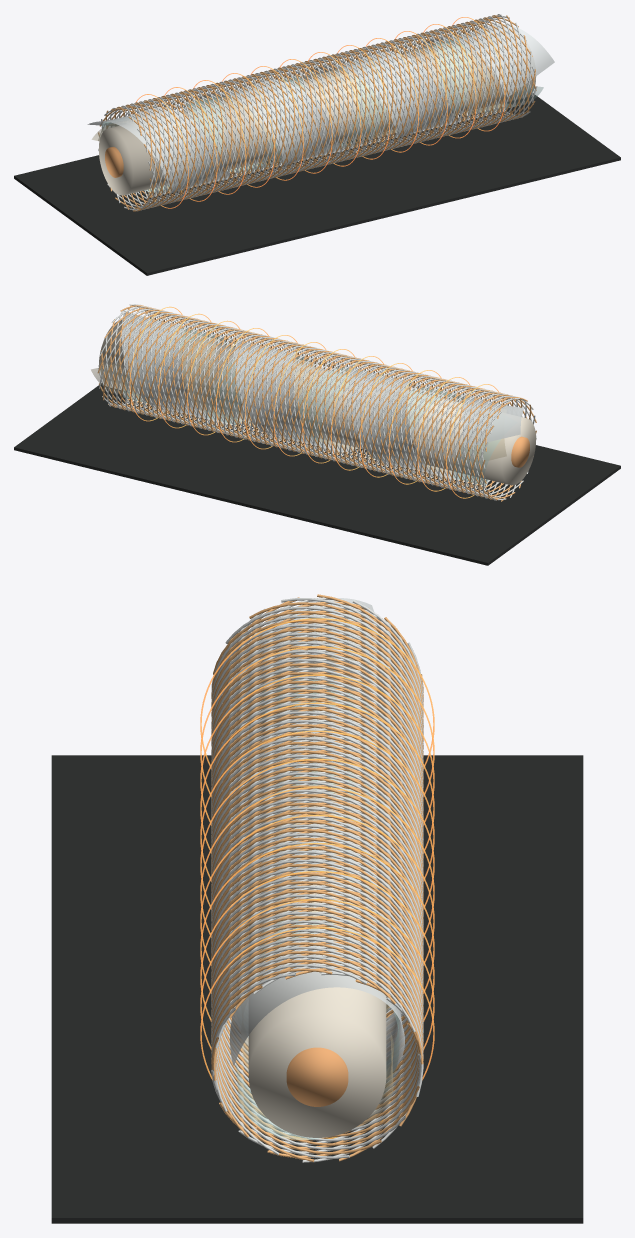
Rendered from suckout-pitch-visual-library.glb.
3 renders of one model, top to bottom at view 1: azimuth 30°, elevation 25°; view 2: azimuth 150°, elevation 25°; view 3: azimuth 270°, elevation 25°, orthographic. The views are drawn at different scales.
Visible parts, largest first — view 1: Matte analyzer floor, foil_helical_wrap, Dielectric under wrap, ptfe_b_helical_wrap, ptfe_a_helical_wrap, Braid_Z_15, Braid_Z_17, Braid_Z_00, Braid_Z_13, Braid_Z_16, Braid_Z_01, Braid_Z_14 (+30 smaller); view 2: Matte analyzer floor, foil_helical_wrap, Dielectric under wrap, ptfe_b_helical_wrap, ptfe_a_helical_wrap, Braid_Z_08, Braid_Z_10, Braid_Z_07, Braid_Z_06, Braid_Z_12, Braid_Z_09, Braid_Z_05 (+30 smaller); view 3: Matte analyzer floor, Dielectric under wrap, foil_helical_wrap, Braid_Z_08, Braid_Z_07, Braid_Z_09, Braid_Z_06, Braid_Z_12, Braid_Z_10, Braid_Z_13, Braid_Z_14, Braid_Z_11 (+42 smaller).
Part boxes in pixels (x1=…): Matte analyzer floor: x1=14, y1=93, x2=620, y2=275; foil_helical_wrap: x1=87, y1=24, x2=554, y2=192; Dielectric under wrap: x1=98, y1=31, x2=536, y2=195; ptfe_b_helical_wrap: x1=102, y1=39, x2=543, y2=193; ptfe_a_helical_wrap: x1=92, y1=43, x2=503, y2=161; Braid_Z_15: x1=107, y1=16, x2=505, y2=207; Braid_Z_17: x1=98, y1=14, x2=514, y2=205; Braid_Z_00: x1=98, y1=15, x2=518, y2=204; Braid_Z_13: x1=124, y1=18, x2=496, y2=210; Braid_Z_16: x1=123, y1=15, x2=509, y2=206; Braid_Z_01: x1=101, y1=22, x2=522, y2=203; Braid_Z_14: x1=115, y1=17, x2=500, y2=209; Matte analyzer floor: x1=14, y1=383, x2=620, y2=565; foil_helical_wrap: x1=121, y1=310, x2=523, y2=479; Dielectric under wrap: x1=98, y1=320, x2=536, y2=485; ptfe_b_helical_wrap: x1=123, y1=328, x2=500, y2=485; ptfe_a_helical_wrap: x1=91, y1=331, x2=506, y2=472; Braid_Z_08: x1=120, y1=316, x2=536, y2=488; Braid_Z_10: x1=112, y1=314, x2=526, y2=486; Braid_Z_07: x1=125, y1=317, x2=533, y2=489; Braid_Z_06: x1=129, y1=318, x2=527, y2=490; Braid_Z_12: x1=103, y1=312, x2=521, y2=488; Braid_Z_09: x1=116, y1=315, x2=536, y2=487; Braid_Z_05: x1=134, y1=319, x2=519, y2=491; Matte analyzer floor: x1=51, y1=755, x2=583, y2=1223; Dielectric under wrap: x1=248, y1=623, x2=386, y2=1137; foil_helical_wrap: x1=230, y1=598, x2=404, y2=1077; Braid_Z_08: x1=211, y1=611, x2=423, y2=1158; Braid_Z_07: x1=211, y1=606, x2=423, y2=1153; Braid_Z_09: x1=211, y1=615, x2=423, y2=1162; Braid_Z_06: x1=211, y1=602, x2=423, y2=1149; Braid_Z_12: x1=211, y1=628, x2=423, y2=1126; Braid_Z_10: x1=211, y1=619, x2=423, y2=1161; Braid_Z_13: x1=211, y1=632, x2=423, y2=1096; Braid_Z_14: x1=211, y1=637, x2=423, y2=1088; Braid_Z_11: x1=211, y1=624, x2=423, y2=1148.
Size of the model in its own units: 7 by 1.55 by 3.4.
